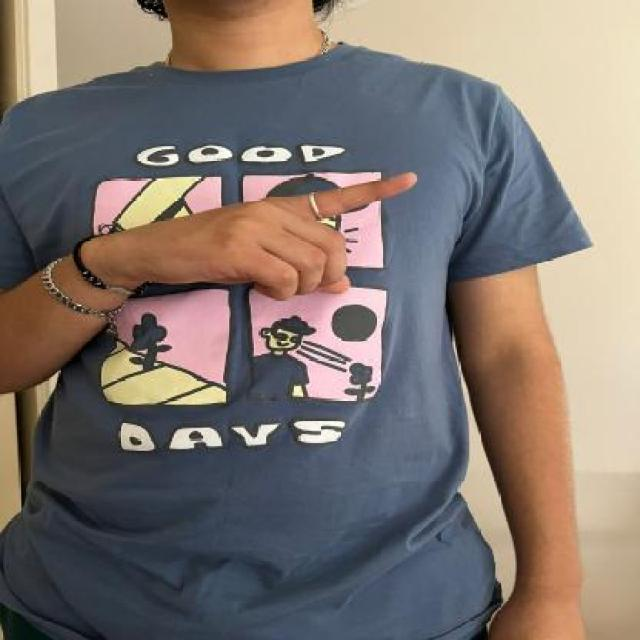S: (103, 167, 420, 301)
